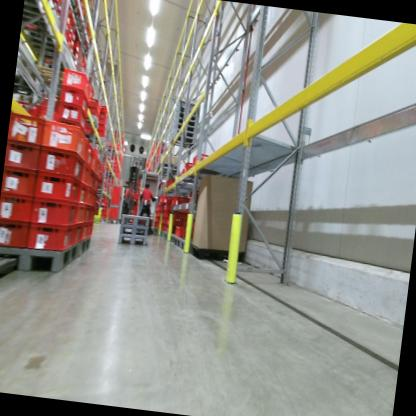pallet: (0, 232, 80, 279), (171, 109, 199, 128), (167, 132, 195, 150), (119, 221, 150, 237), (171, 103, 200, 120), (120, 211, 149, 228), (117, 231, 147, 246), (172, 98, 201, 111), (179, 236, 201, 253), (78, 234, 91, 260), (171, 116, 196, 129), (170, 126, 196, 138), (156, 162, 178, 176), (86, 113, 101, 131), (172, 123, 197, 132), (173, 235, 182, 250), (168, 233, 175, 245), (161, 229, 168, 241)
pallet_truck: (112, 160, 145, 231)
small_load_carrier: (29, 166, 85, 209), (37, 140, 87, 183), (26, 218, 77, 260), (29, 195, 80, 235), (43, 116, 89, 159), (55, 95, 102, 127), (1, 165, 37, 202), (0, 186, 35, 223), (57, 83, 92, 119), (7, 115, 45, 148), (4, 142, 41, 175), (58, 65, 93, 98), (0, 219, 30, 255), (77, 180, 91, 211), (66, 220, 82, 246), (73, 200, 88, 227), (80, 163, 93, 193), (192, 152, 213, 169), (83, 136, 94, 167), (79, 218, 89, 246), (86, 104, 102, 121), (90, 147, 99, 172), (170, 195, 189, 206), (86, 185, 94, 210), (86, 219, 94, 242), (174, 225, 188, 238), (91, 173, 101, 191), (88, 172, 96, 192), (94, 160, 101, 180), (164, 178, 177, 188), (182, 161, 192, 173), (91, 189, 97, 208), (100, 105, 109, 114), (97, 117, 106, 125), (159, 194, 168, 202), (96, 129, 105, 136), (98, 112, 108, 118), (96, 124, 105, 130)
